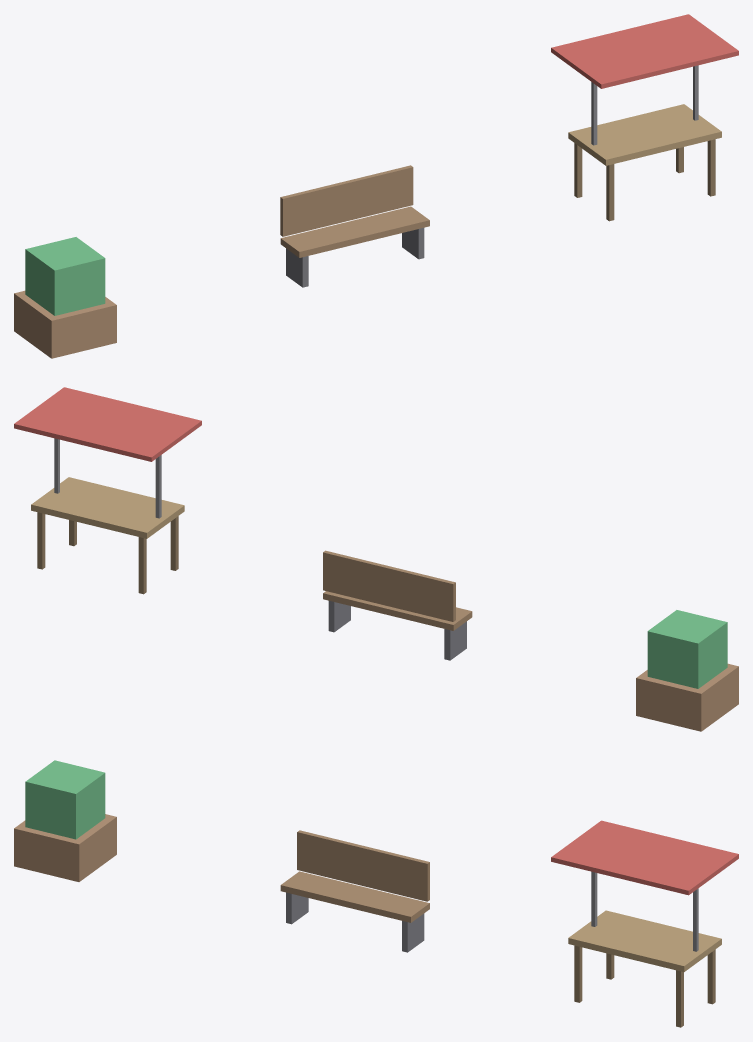
File: props.glb
The picture shows the model from 3 angles, top to bottom: view 1: azimuth 30°, elevation 25°; view 2: azimuth 150°, elevation 25°; view 3: azimuth 330°, elevation 25°; orthographic projection.
Visible parts, largest first — view 1: prop_stall_roof, prop_bench_back, prop_planter_bush, prop_stall_table, prop_planter_box, prop_bench_seat, prop_bench_leg1, prop_bench_leg2; view 2: prop_stall_roof, prop_bench_back, prop_planter_bush, prop_stall_table, prop_planter_box, prop_bench_seat, prop_bench_leg1, prop_bench_leg2; view 3: prop_stall_roof, prop_bench_back, prop_planter_bush, prop_stall_table, prop_planter_box, prop_bench_seat, prop_bench_leg2, prop_bench_leg1, prop_stall_leg1, prop_stall_leg4, prop_stall_leg2.
Part boxes in pixels (x1=…): prop_stall_roof: x1=551, y1=14, x2=738, y2=88; prop_bench_back: x1=280, y1=165, x2=413, y2=236; prop_planter_bush: x1=25, y1=237, x2=105, y2=315; prop_stall_table: x1=568, y1=104, x2=721, y2=165; prop_planter_box: x1=14, y1=290, x2=116, y2=358; prop_bench_seat: x1=280, y1=206, x2=429, y2=257; prop_bench_leg1: x1=286, y1=248, x2=308, y2=287; prop_bench_leg2: x1=402, y1=227, x2=424, y2=259; prop_stall_roof: x1=14, y1=387, x2=201, y2=461; prop_bench_back: x1=323, y1=550, x2=455, y2=621; prop_planter_bush: x1=647, y1=610, x2=727, y2=688; prop_stall_table: x1=31, y1=477, x2=184, y2=538; prop_planter_box: x1=636, y1=663, x2=738, y2=731; prop_bench_seat: x1=323, y1=591, x2=472, y2=630; prop_bench_leg1: x1=444, y1=621, x2=466, y2=660; prop_bench_leg2: x1=328, y1=600, x2=350, y2=632; prop_stall_roof: x1=551, y1=820, x2=738, y2=895; prop_bench_back: x1=297, y1=830, x2=429, y2=901; prop_planter_bush: x1=25, y1=760, x2=105, y2=839; prop_stall_table: x1=568, y1=910, x2=721, y2=971; prop_planter_box: x1=14, y1=814, x2=116, y2=881; prop_bench_seat: x1=280, y1=871, x2=429, y2=922; prop_bench_leg2: x1=402, y1=913, x2=424, y2=952; prop_bench_leg1: x1=286, y1=892, x2=308, y2=924; prop_stall_leg1: x1=574, y1=945, x2=582, y2=1002; prop_stall_leg4: x1=707, y1=949, x2=715, y2=1004; prop_stall_leg2: x1=676, y1=970, x2=683, y2=1027.
Bounding box in the file's own units: 9.4 × 1.93 × 1.2.
